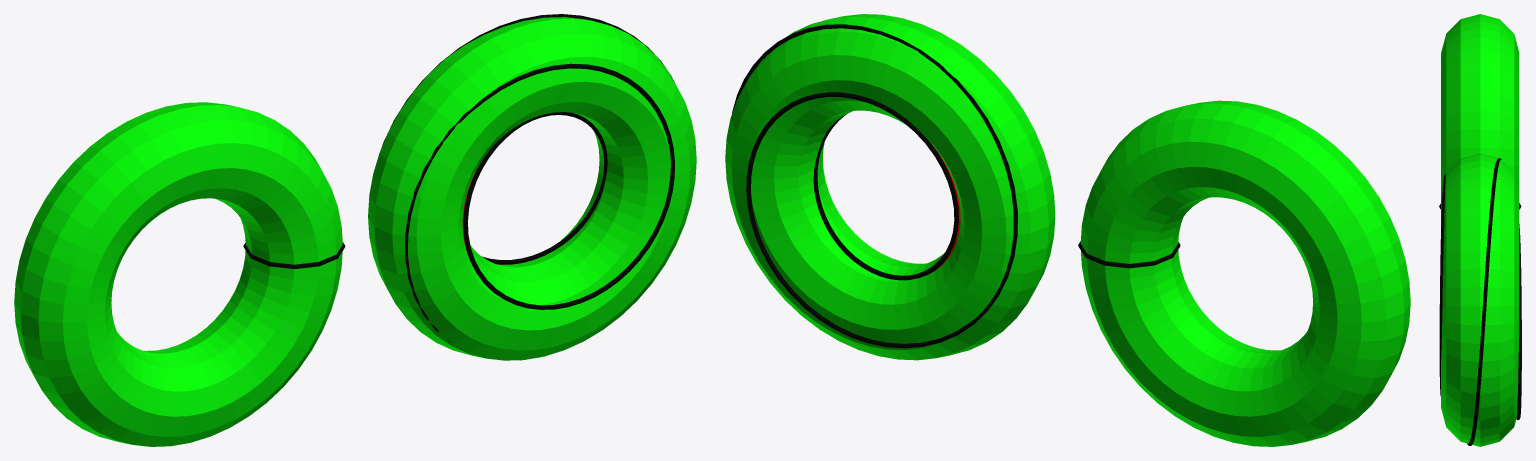
Rendered from l4_1_website.glb.
3 views of the same model, side by side, from view 1: azimuth 30°, elevation 25°; view 2: azimuth 150°, elevation 25°; view 3: azimuth 270°, elevation 25° (orthographic). The views are drawn at different scales.
Visible parts, largest first — view 1: Torus1, Torus2, boundary; view 2: Torus1, Torus2, boundary; view 3: Torus2, Torus1, boundary.
Part boxes in pixels (bbox=[...]): Torus1: bbox=[14, 102, 342, 446]; Torus2: bbox=[368, 17, 696, 360]; boundary: bbox=[382, 14, 674, 360]; Torus1: bbox=[1080, 100, 1410, 446]; Torus2: bbox=[725, 14, 1055, 360]; boundary: bbox=[732, 24, 1017, 348]; Torus2: bbox=[1441, 153, 1519, 446]; Torus1: bbox=[1441, 14, 1519, 191]; boundary: bbox=[1439, 158, 1521, 445].
Size of the model in its own units: 319 by 150 by 42.25.
